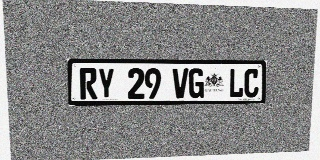2: (128, 68, 144, 99)
9: (145, 68, 161, 99)
C: (244, 69, 259, 98)
G: (189, 68, 204, 98)
L: (229, 68, 244, 98)
R: (80, 68, 97, 99)
V: (172, 68, 188, 98)
Y: (97, 68, 115, 99)
